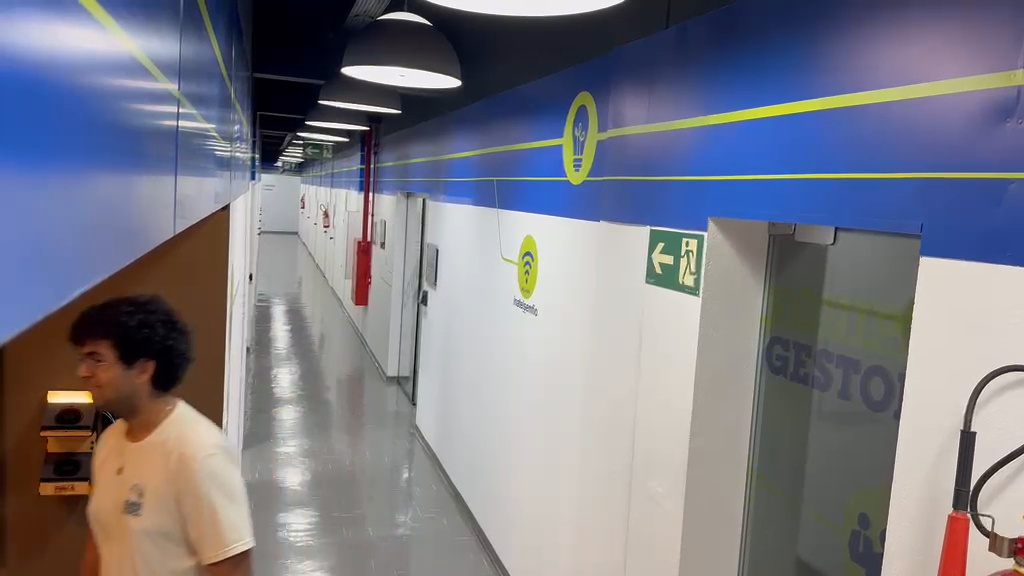person: (70, 294, 256, 573)
